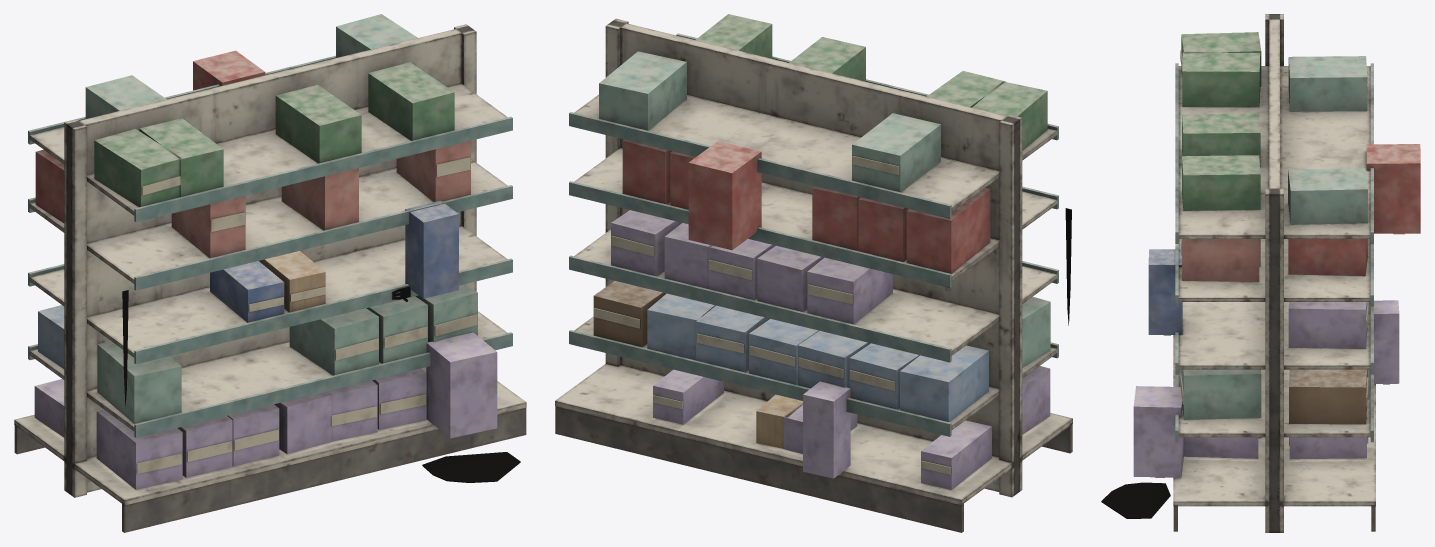
File: gondola_shelf.fbx
3 views of the same model, side by side, from view 1: azimuth 30°, elevation 25°; view 2: azimuth 150°, elevation 25°; view 3: azimuth 270°, elevation 25° (orthographic). The views are drawn at different scales.
Visible parts, largest first — view 1: Body; view 2: Body; view 3: Body.
Boxes of the visible parts, box(x1,y1,x2,y2) form: Body: box(14, 14, 526, 532); Body: box(555, 14, 1072, 532); Body: box(1101, 14, 1420, 532).
Bounding box in the file's own units: 8.01 × 7 × 5.98.
1 material, 1 textured.
